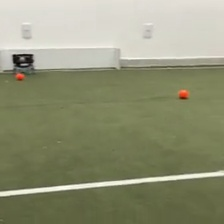ball: (177, 87, 189, 100), (15, 71, 24, 80)
goal: (1, 46, 122, 72)
robot: (10, 52, 36, 74)
